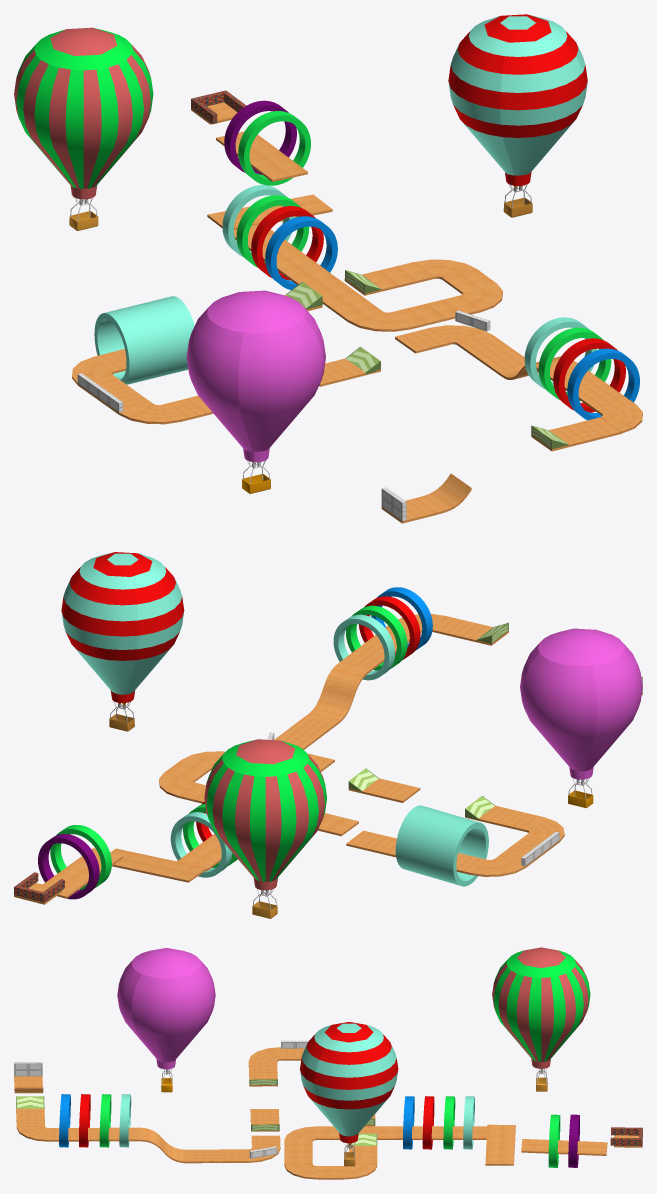
File: LEVEL 28.fbx
3 views of the same model, one above another, from view 1: azimuth 30°, elevation 25°; view 2: azimuth 150°, elevation 25°; view 3: azimuth 270°, elevation 25° (orthographic). The views are drawn at different scales.
Parts seen in each view (by area): view 1: ballon_, ballon___1_, ballon_2, sky_blue__2_, green, blue, blue__1_, red__1_, red, purple, green__1_, green__2_ (+22 smaller); view 2: ballon_, ballon_2, ballon___1_, sky_blue__2_, purple, sky_blue__1_, green, green__2_, sky_blue1, red__1_, SmallRamp__1_, SmallRamp (+14 smaller); view 3: ballon_2, ballon___1_, ballon_, green__2_, sky_blue__1_, green__1_, blue__1_, red, sky_blue1, green, red__1_, purple (+24 smaller).
Boxes of the visible parts, x1=… form: ballon_: x1=14, y1=27, x2=153, y2=230; ballon___1_: x1=448, y1=14, x2=587, y2=217; ballon_2: x1=186, y1=290, x2=325, y2=493; sky_blue__2_: x1=94, y1=296, x2=194, y2=384; green: x1=238, y1=111, x2=310, y2=185; blue: x1=265, y1=216, x2=337, y2=290; blue__1_: x1=567, y1=348, x2=639, y2=420; red__1_: x1=553, y1=338, x2=625, y2=412; red: x1=251, y1=206, x2=323, y2=280; purple: x1=224, y1=100, x2=296, y2=174; green__1_: x1=236, y1=195, x2=309, y2=267; green__2_: x1=538, y1=327, x2=611, y2=400; ballon_: x1=204, y1=739, x2=326, y2=918; ballon_2: x1=520, y1=628, x2=642, y2=808; ballon___1_: x1=61, y1=552, x2=184, y2=731; sky_blue__2_: x1=395, y1=805, x2=488, y2=886; purple: x1=38, y1=834, x2=99, y2=899; sky_blue__1_: x1=333, y1=614, x2=395, y2=680; green: x1=50, y1=825, x2=111, y2=889; green__2_: x1=346, y1=605, x2=407, y2=670; sky_blue1: x1=170, y1=812, x2=232, y2=877; red__1_: x1=359, y1=596, x2=420, y2=659; SmallRamp__1_: x1=323, y1=662, x2=370, y2=696; SmallRamp: x1=306, y1=689, x2=353, y2=724; ballon_2: x1=117, y1=948, x2=215, y2=1092; ballon___1_: x1=300, y1=1022, x2=398, y2=1166; ballon_: x1=492, y1=947, x2=590, y2=1091; green__2_: x1=99, y1=1094, x2=111, y2=1147; sky_blue__1_: x1=119, y1=1094, x2=131, y2=1147; green__1_: x1=443, y1=1096, x2=455, y2=1149; blue__1_: x1=59, y1=1094, x2=70, y2=1147; red: x1=422, y1=1096, x2=434, y2=1149; sky_blue1: x1=463, y1=1096, x2=474, y2=1149; green: x1=548, y1=1114, x2=560, y2=1167; red__1_: x1=79, y1=1094, x2=90, y2=1147; purple: x1=568, y1=1114, x2=579, y2=1167.
Bounding box in the file's own units: 5866 × 3037 × 8841.
Materials: 22 (8 with a texture image).
